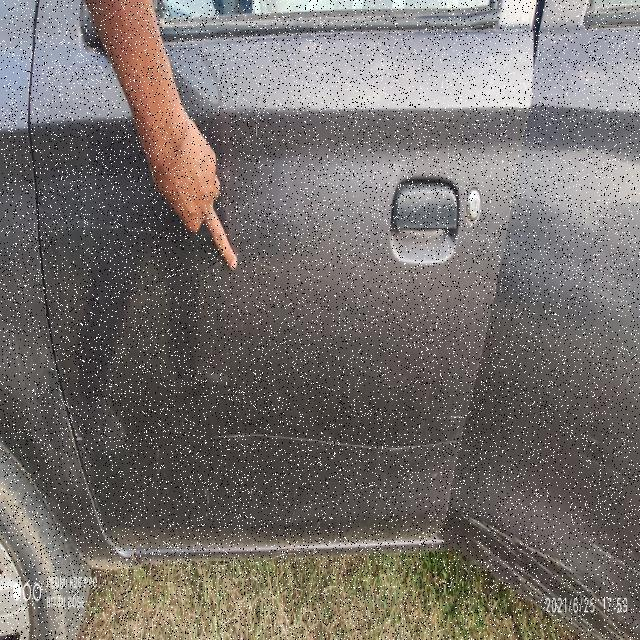fender: (78, 47, 466, 553)
